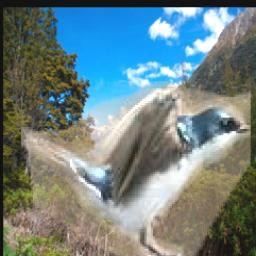Swallow: (21, 81, 251, 256)
